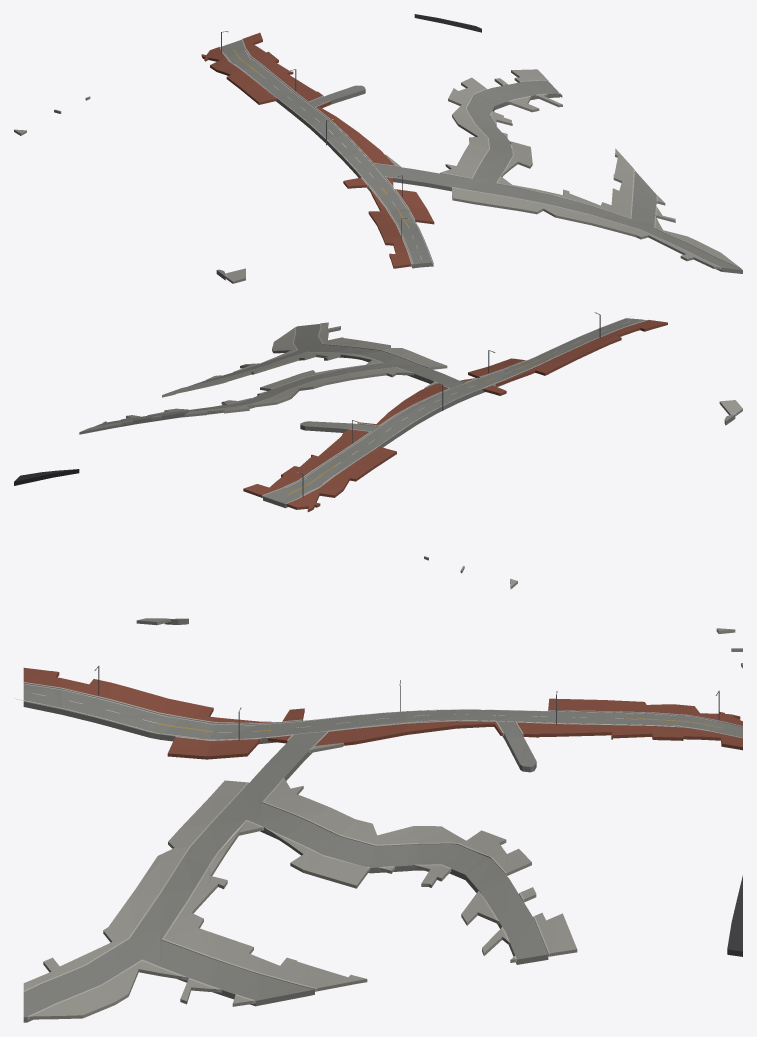
3 renders of one model, top to bottom at view 1: azimuth 30°, elevation 25°; view 2: azimuth 150°, elevation 25°; view 3: azimuth 270°, elevation 25°, orthographic. The views are drawn at different scales.
Bounding box in the file's own units: 147 × 36.5 × 148.
